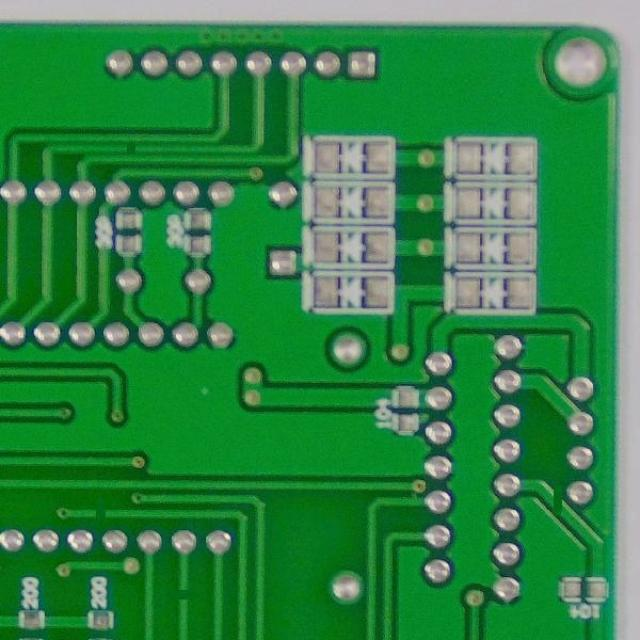open_circuit: (548, 483, 570, 521), (91, 504, 108, 520), (176, 586, 191, 604), (122, 143, 138, 155)
